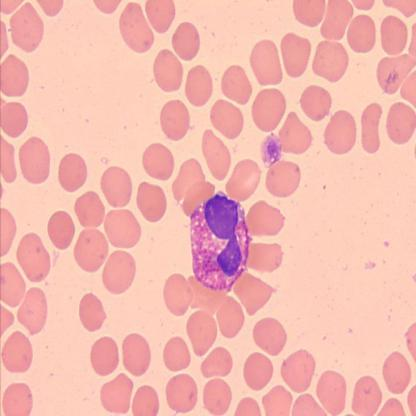Eosinophil: (187, 191, 251, 290)
